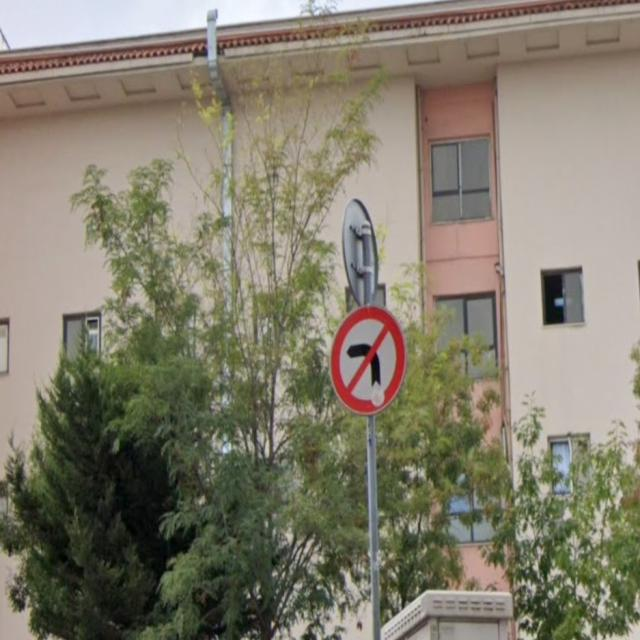soladonulmez: (331, 305, 406, 414)
